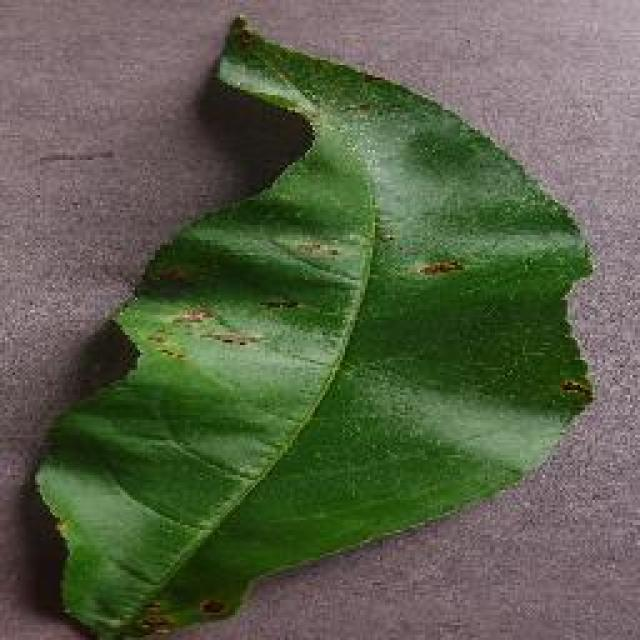Peach_Bacterial_Spot: (197, 195, 535, 365)
